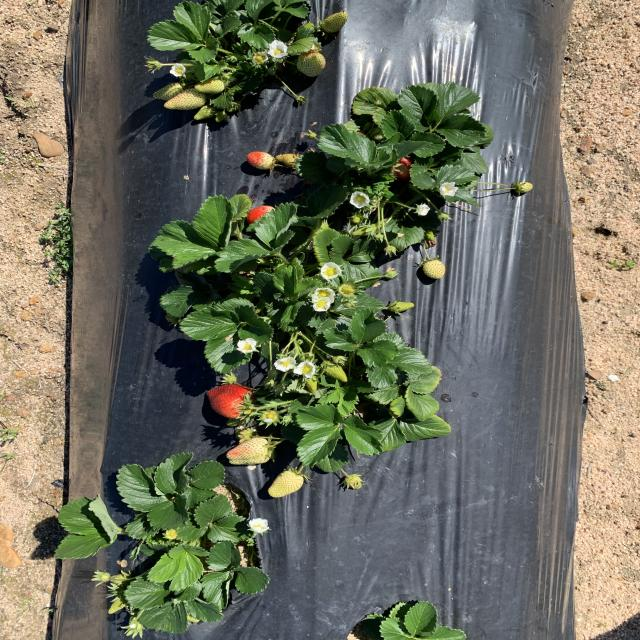unripe: (198, 383, 264, 420), (242, 203, 284, 237), (390, 155, 420, 185)
